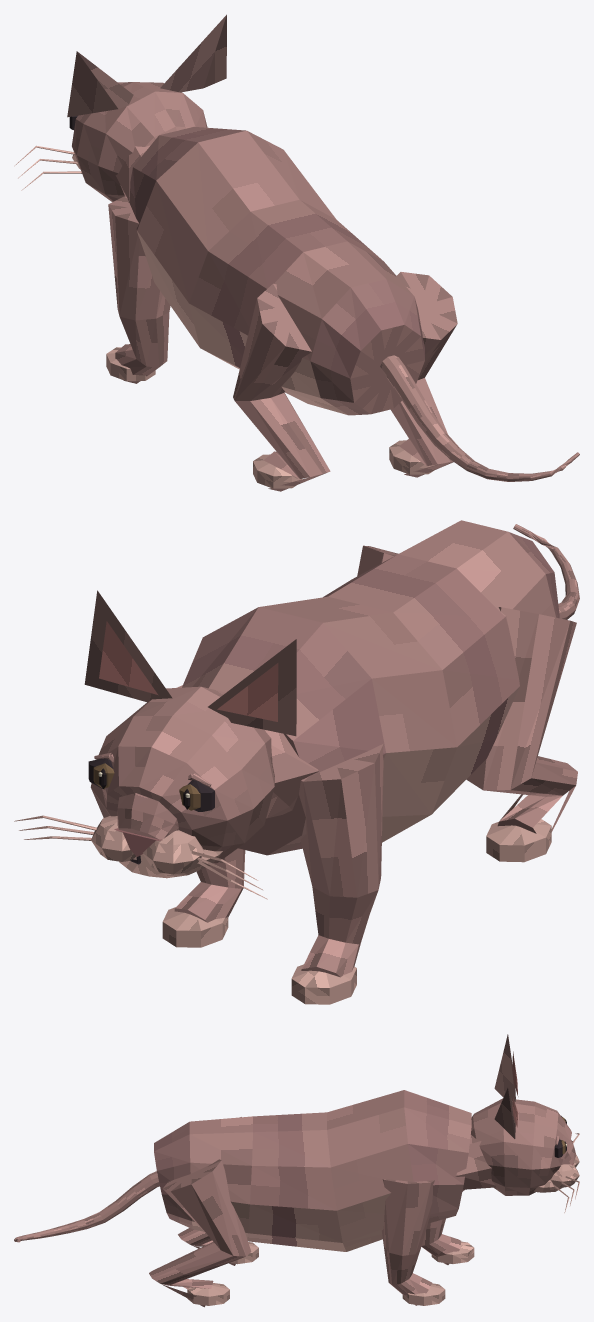
File: mon_cat_sphynx_kitten.glb
The picture shows the model from 3 angles, top to bottom: view 1: azimuth 30°, elevation 25°; view 2: azimuth 150°, elevation 25°; view 3: azimuth 270°, elevation 25°; orthographic projection. The views are drawn at different scales.
Visible parts, largest first — view 1: closed_body; view 2: closed_body; view 3: closed_body.
Boxes of the visible parts, <box> form: closed_body: <box>14,14,579,491</box>; closed_body: <box>14,520,579,1004</box>; closed_body: <box>14,1034,579,1307</box>.
Bounding box in the file's own units: 0.0929 × 0.1466 × 0.3328.
1 material, 1 textured.
